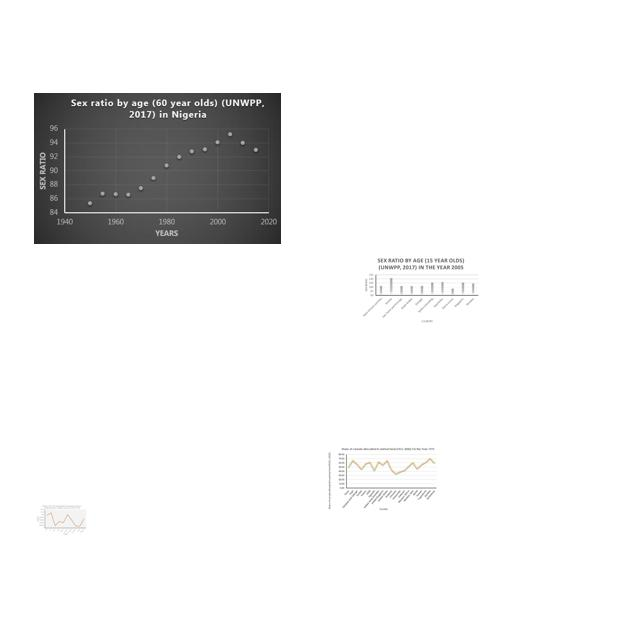Graph: (34, 93, 281, 244), (361, 255, 481, 325), (326, 446, 439, 512), (37, 505, 87, 535)
